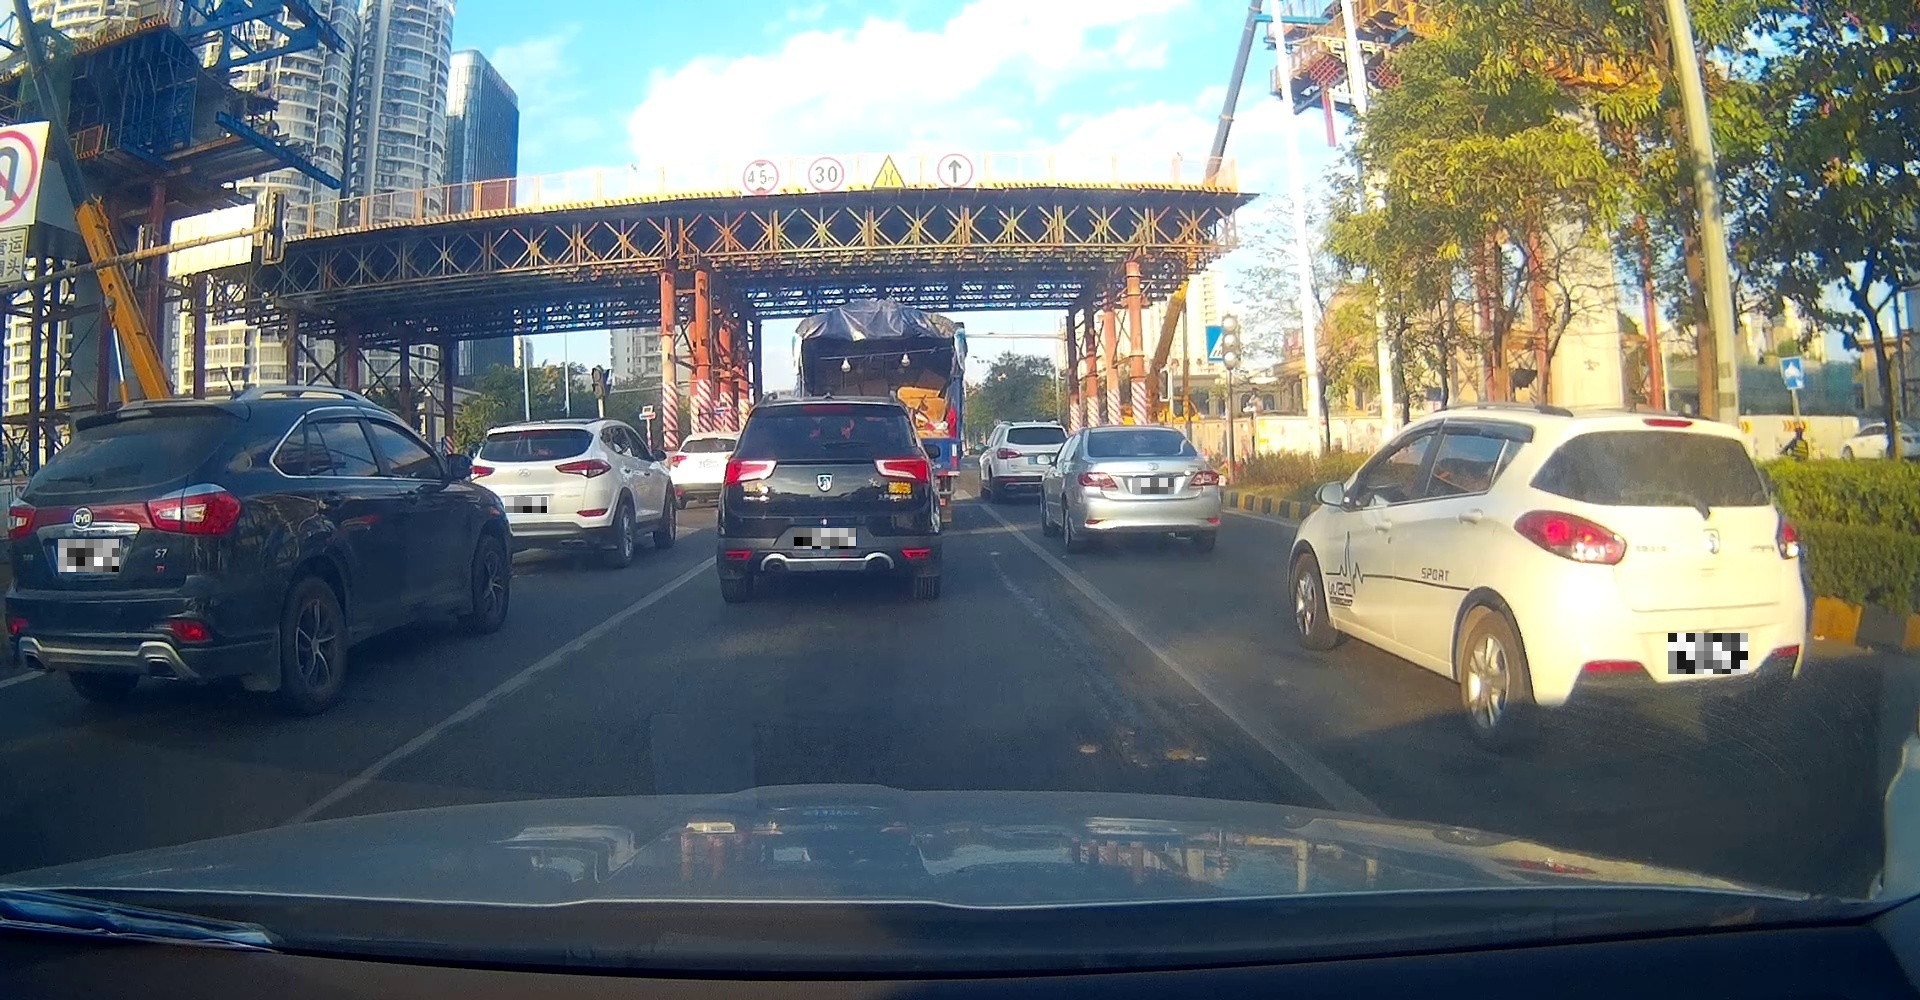L_light: (1511, 508, 1627, 563), (723, 458, 777, 487), (6, 508, 36, 539), (1078, 471, 1117, 490), (469, 463, 497, 484)
R_light: (147, 489, 241, 536), (872, 458, 931, 484), (554, 458, 613, 478), (1775, 518, 1802, 558), (1190, 470, 1219, 486)
T_light: (801, 404, 853, 412), (1642, 418, 1694, 426), (119, 409, 150, 418), (518, 430, 543, 437), (1138, 452, 1156, 456)
day-no: (1510, 411, 1810, 712), (3, 397, 241, 703), (716, 390, 942, 604), (465, 421, 616, 576), (1076, 424, 1222, 551)
plate_1: (58, 539, 119, 572)
plate_2: (794, 528, 856, 549)
plate_3: (1131, 478, 1175, 494)
plate_4: (1669, 633, 1749, 674)
plate_5: (505, 497, 547, 513)
